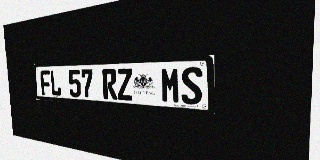5: (68, 70, 81, 97)
7: (80, 69, 94, 98)
F: (40, 70, 51, 96)
L: (50, 70, 61, 96)
M: (161, 67, 181, 104)
R: (102, 69, 117, 100)
S: (181, 67, 203, 105)
Z: (117, 68, 133, 101)
